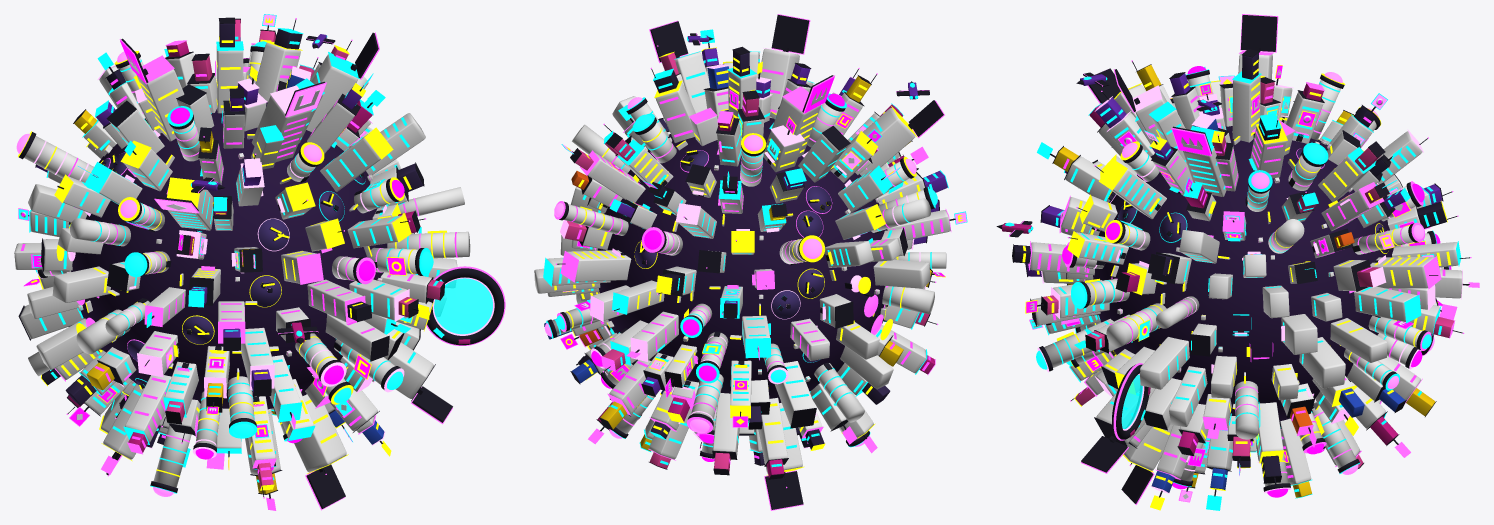
Rendered from Planet_Downtown.fbx.
The picture shows the model from 3 angles, left to right: view 1: azimuth 30°, elevation 25°; view 2: azimuth 150°, elevation 25°; view 3: azimuth 270°, elevation 25°; orthographic projection. The views are drawn at different scales.
Visible parts, largest first — view 1: COL_Downtown, Downtown_City_Ground, Downtown_Dark_Metal, Downtown_Neon_Yellow, Downtown_Neon_Cyan, Downtown_Neon_Pink, Downtown_Neon_Violet, Downtown_Win_Cyan, Downtown_Deck_Top, Downtown_Screen_Magenta, Downtown_Win_Yellow, Downtown_Portal (+11 smaller); view 2: COL_Downtown, Downtown_City_Ground, Downtown_Dark_Metal, Downtown_Neon_Pink, Downtown_Neon_Cyan, Downtown_Neon_Yellow, Downtown_Win_Cyan, Downtown_Neon_Violet, Downtown_Deck_Top, Downtown_Screen_Magenta, Downtown_Win_Yellow, Downtown_Win_Pink (+10 smaller); view 3: COL_Downtown, Downtown_City_Ground, Downtown_Dark_Metal, Downtown_Neon_Pink, Downtown_Neon_Yellow, Downtown_Neon_Cyan, Downtown_Win_Cyan, Downtown_Screen_Magenta, Downtown_Neon_Violet, Downtown_B_Pink, Downtown_Win_Yellow, Downtown_B_Violet (+12 smaller).
Boxes of the visible parts, box(x1,y1,x2,y2) form: COL_Downtown: box(14, 42, 470, 487); Downtown_City_Ground: box(71, 102, 387, 409); Downtown_Dark_Metal: box(18, 17, 504, 508); Downtown_Neon_Yellow: box(18, 41, 446, 490); Downtown_Neon_Cyan: box(29, 14, 444, 493); Downtown_Neon_Pink: box(18, 18, 505, 510); Downtown_Neon_Violet: box(33, 65, 494, 458); Downtown_Win_Cyan: box(35, 36, 447, 482); Downtown_Deck_Top: box(104, 152, 365, 388); Downtown_Screen_Magenta: box(21, 40, 405, 470); Downtown_Win_Yellow: box(44, 36, 433, 477); Downtown_Portal: box(434, 278, 492, 334); COL_Downtown: box(534, 48, 950, 473); Downtown_City_Ground: box(597, 118, 887, 402); Downtown_Dark_Metal: box(547, 15, 955, 509); Downtown_Neon_Pink: box(554, 14, 951, 510); Downtown_Neon_Cyan: box(543, 29, 967, 452); Downtown_Neon_Yellow: box(562, 47, 945, 475); Downtown_Win_Cyan: box(558, 58, 938, 467); Downtown_Neon_Violet: box(560, 47, 926, 459); Downtown_Deck_Top: box(634, 150, 885, 362); Downtown_Screen_Magenta: box(561, 77, 944, 461); Downtown_Win_Yellow: box(554, 57, 920, 443); Downtown_Win_Pink: box(569, 69, 943, 464); COL_Downtown: box(1030, 53, 1462, 486); Downtown_City_Ground: box(1093, 126, 1394, 420); Downtown_Dark_Metal: box(996, 15, 1469, 503); Downtown_Neon_Pink: box(1009, 14, 1479, 504); Downtown_Neon_Yellow: box(1025, 65, 1447, 510); Downtown_Neon_Cyan: box(1028, 67, 1461, 510); Downtown_Win_Cyan: box(1052, 81, 1442, 491); Downtown_Screen_Magenta: box(1026, 65, 1451, 497); Downtown_Neon_Violet: box(1037, 84, 1462, 493); Downtown_B_Pink: box(1043, 82, 1453, 468); Downtown_Win_Yellow: box(1022, 59, 1450, 484); Downtown_B_Violet: box(1026, 73, 1442, 276).
Size of the model in its own units: 114 by 129 by 127.
